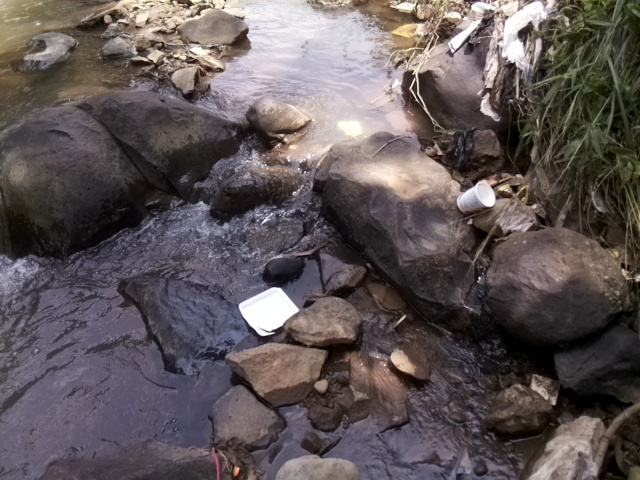Sampah_Styrofoam: (235, 281, 304, 339), (453, 179, 497, 220)
